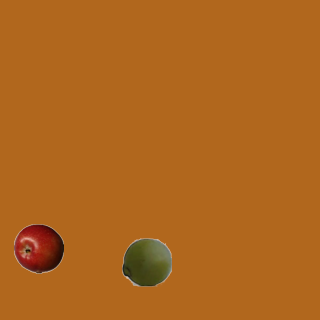Apple Braeburn: (13, 223, 63, 273)
Grape White 4: (121, 236, 171, 286)
